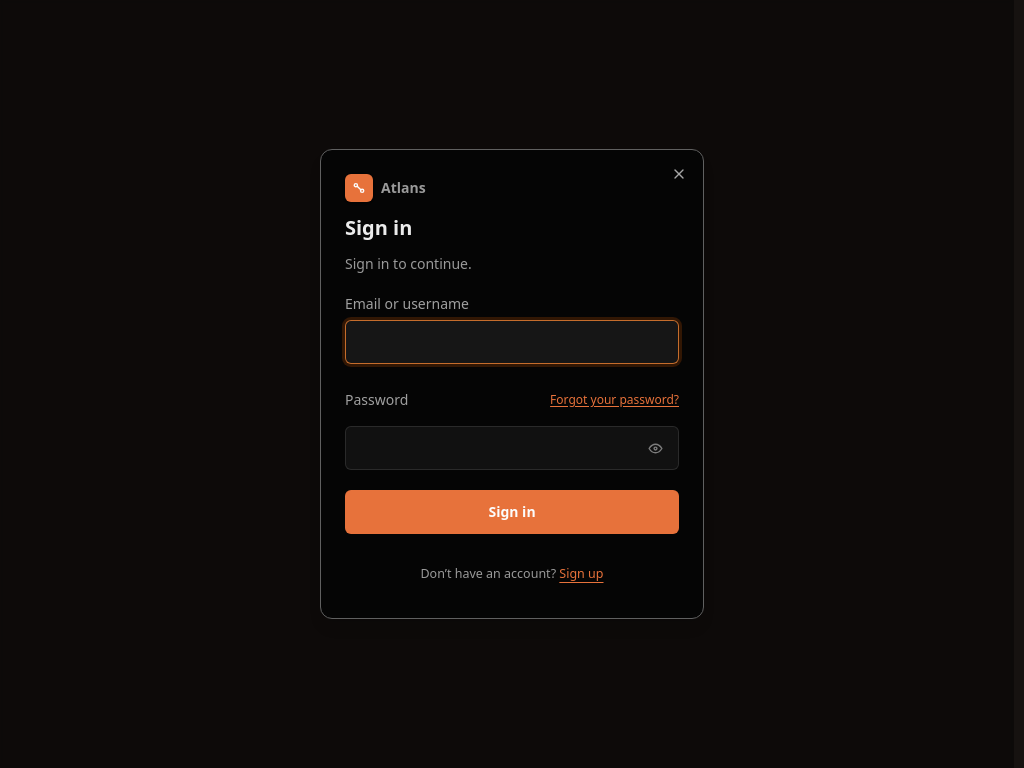
Scenario: entrada em en › entrar: os erros montados no cliente seguem o idioma
This screenshot has width=1024, height=768.
Type "fulana" into the field labelled "Email or username".
click(512, 342); type("fulana")  # box [345,320,679,364]
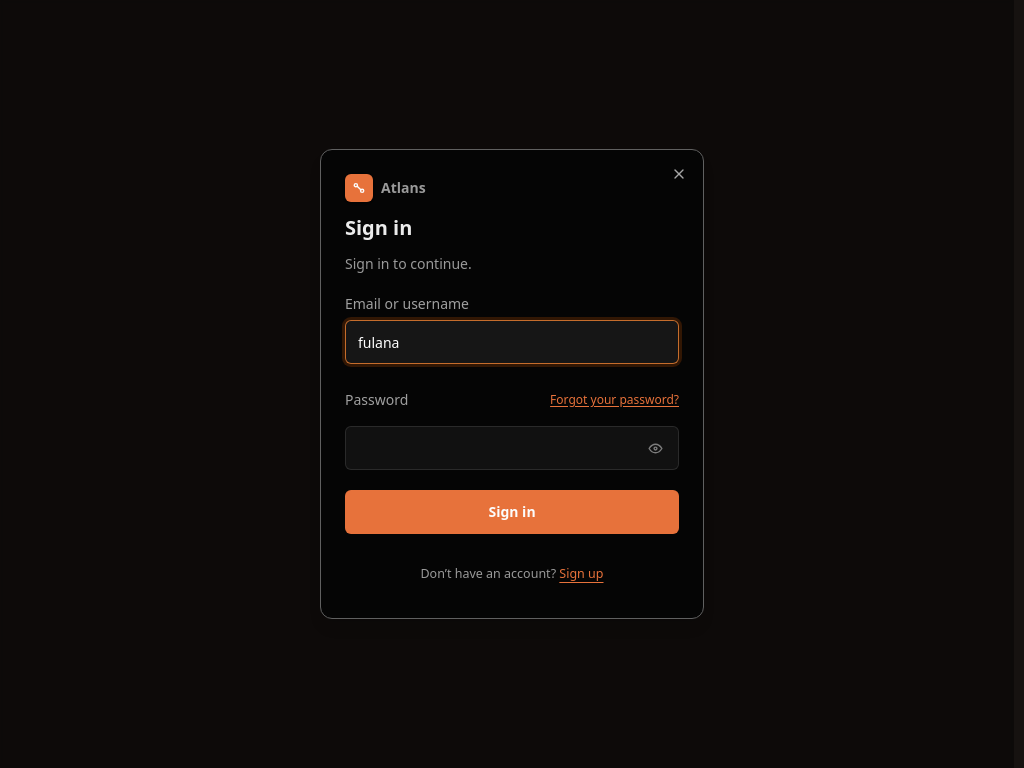
Type "x" into the password field labelled "Password".
click(512, 448); type("x")  # box [345,426,679,470]
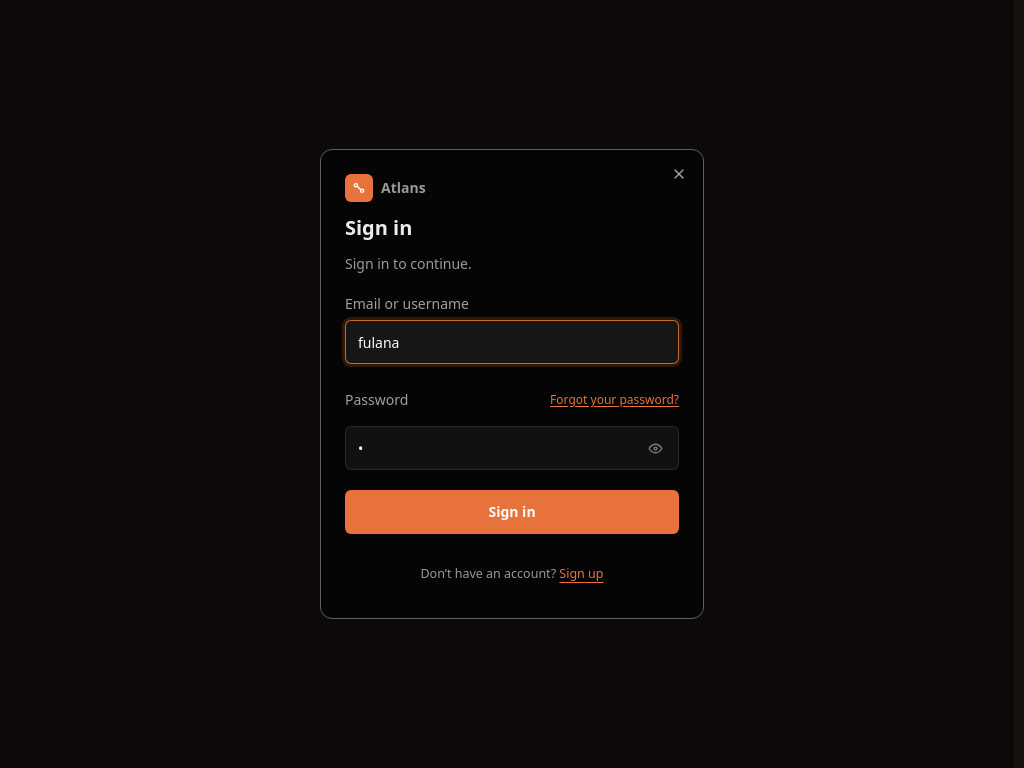
Submit the form labelled "Password", box [345,294,679,534]
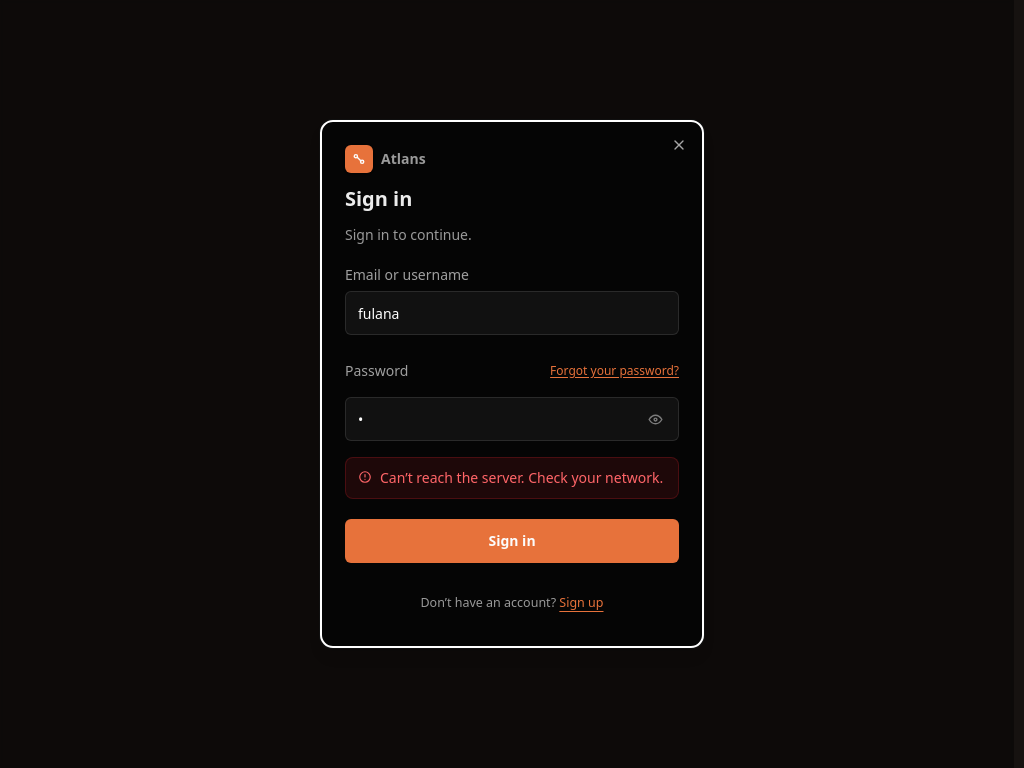
Now the message reads "Can’t reach the server. Check your network.", box [380,468,663,487]
Submit the form labelled "Password", box [345,265,679,563]
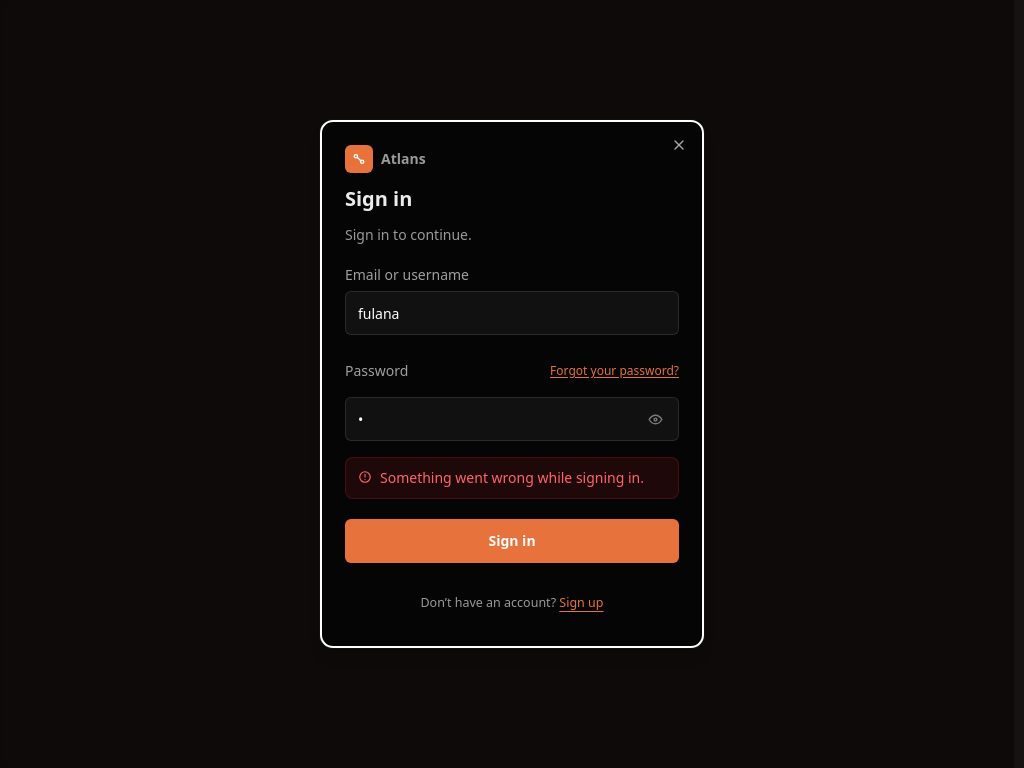
Now the message reads "Something went wrong while signing in.", box [380,468,644,487]
Submit the form labelled "Password", box [345,265,679,563]
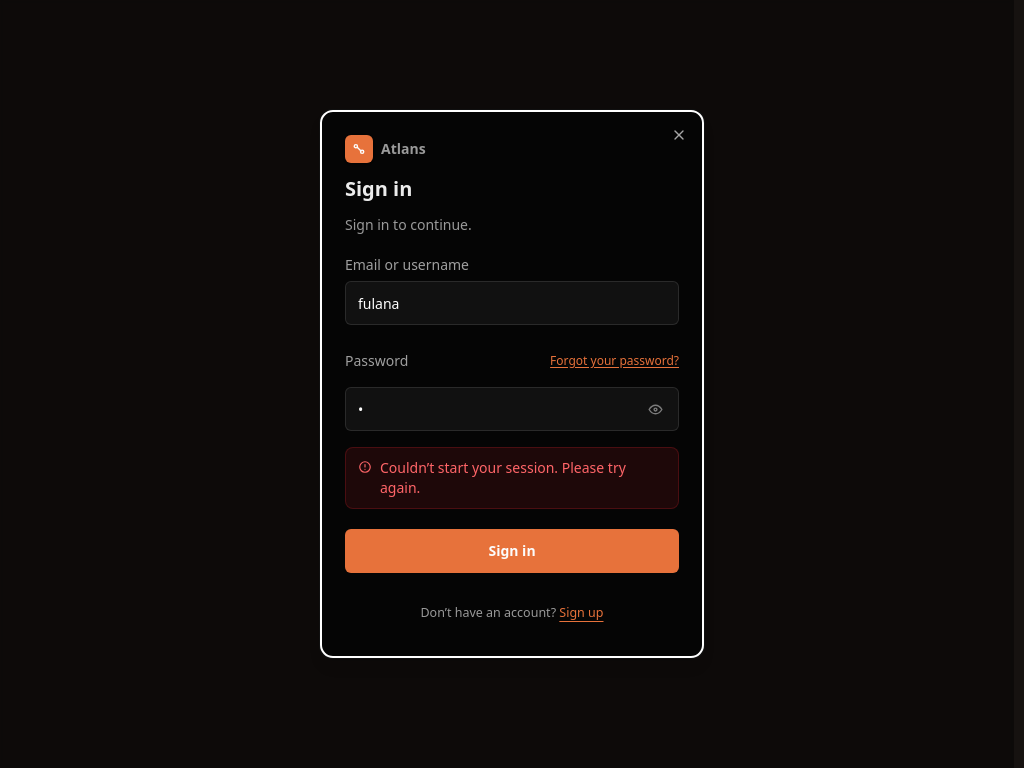
Now the message reads "Couldn’t start your session. Please try again.", box [380,458,626,497]
